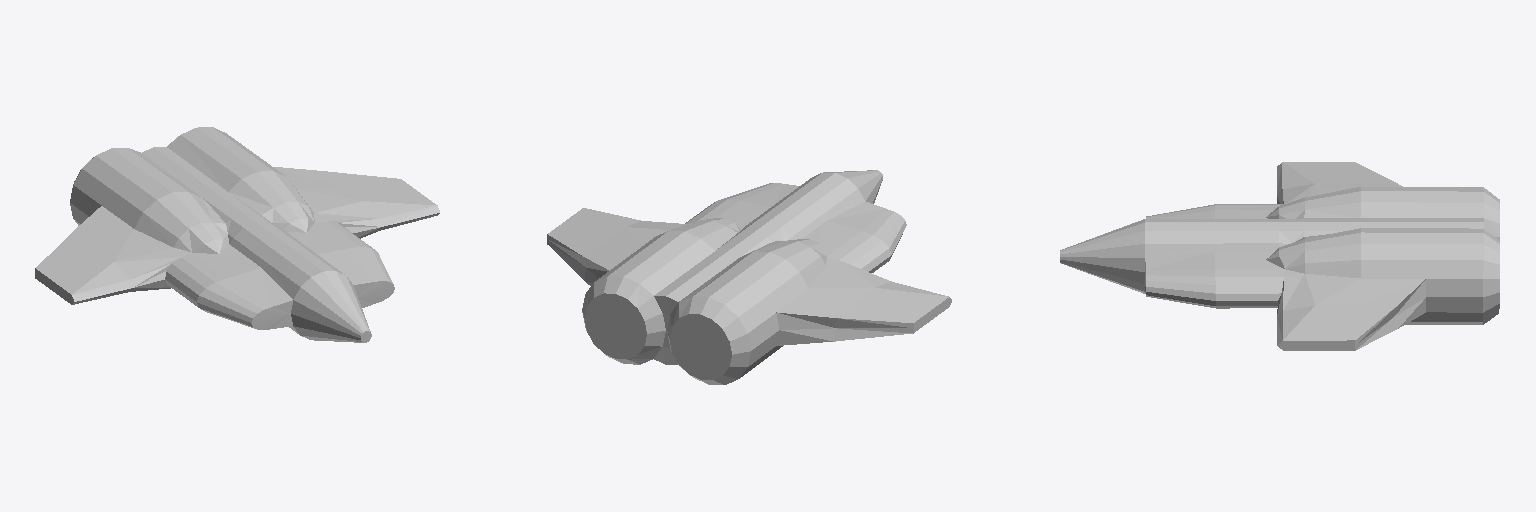
File: Player.obj
3 renders of one model, left to right at view 1: azimuth 30°, elevation 25°; view 2: azimuth 150°, elevation 25°; view 3: azimuth 270°, elevation 25°, orthographic.
Parts seen in each view (by area): view 1: Cube; view 2: Cube; view 3: Cube.
Part boxes in pixels (bbox=[...]): Cube: bbox=[35, 127, 439, 342]; Cube: bbox=[547, 170, 951, 384]; Cube: bbox=[1060, 162, 1499, 350].
Bounding box in the file's own units: 11.19 × 2.58 × 11.65.